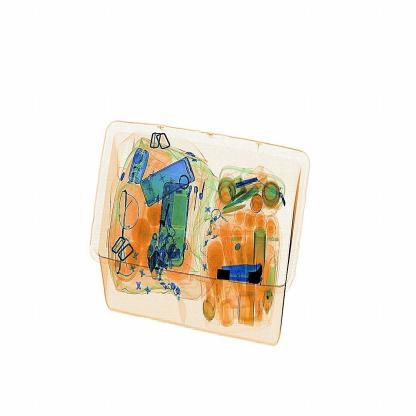knife: (214, 260, 272, 287)
